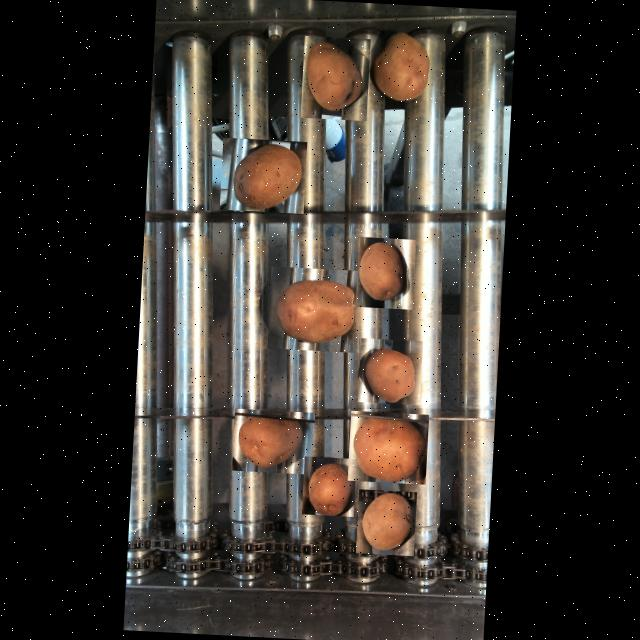Diseased-fungal potato: (268, 266, 358, 352), (220, 137, 308, 213), (348, 410, 430, 484), (300, 35, 370, 120), (370, 21, 436, 108), (232, 408, 315, 473), (356, 236, 416, 309), (358, 338, 423, 404), (356, 488, 417, 556), (302, 455, 357, 516)
